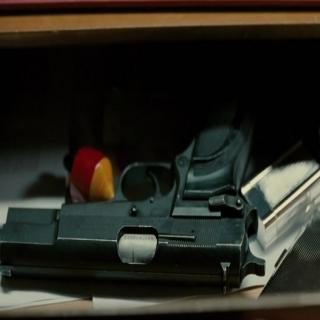gun: (4, 105, 278, 306)
